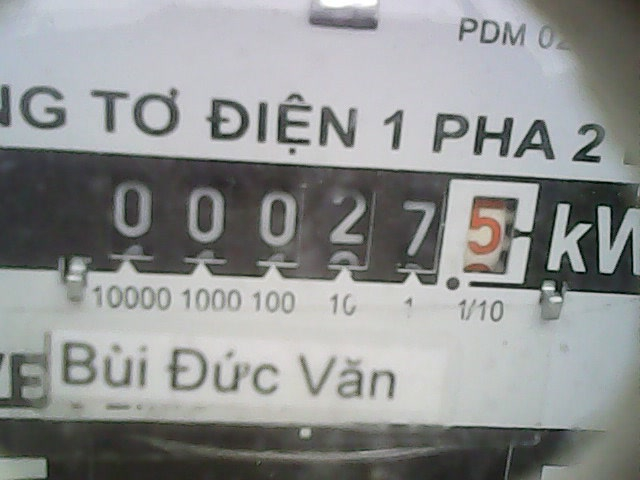phy_plate: (83, 150, 544, 293)
